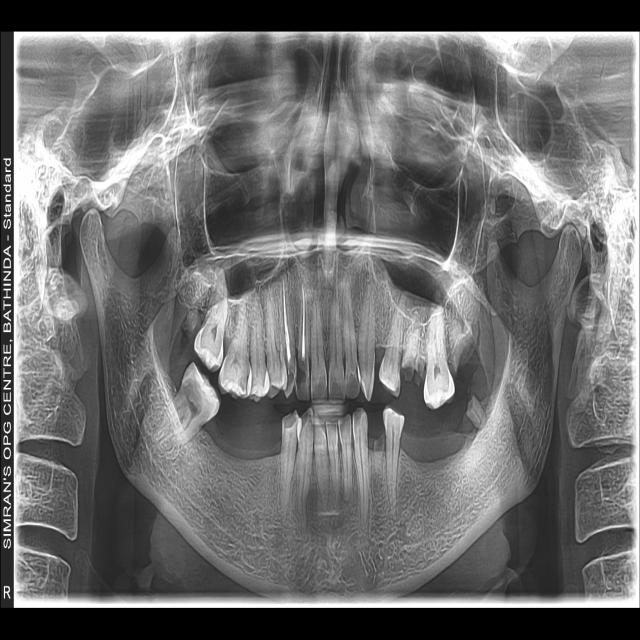Root Piece: (466, 394, 486, 429)
